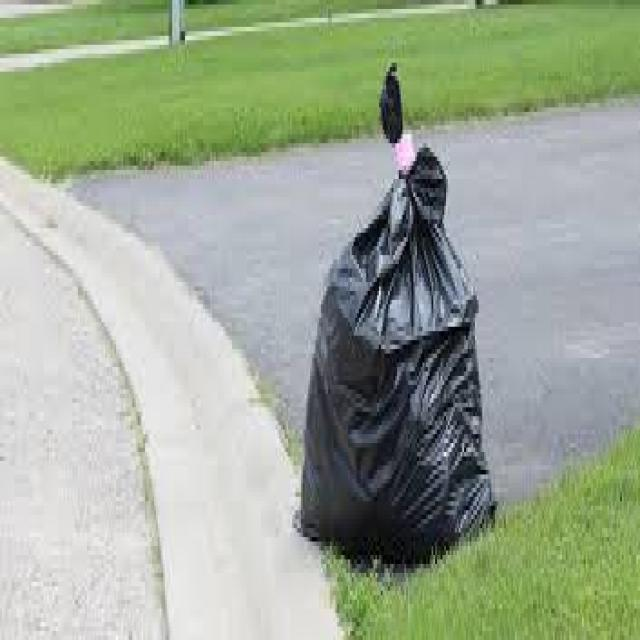plastic_bag: (306, 82, 485, 529)
